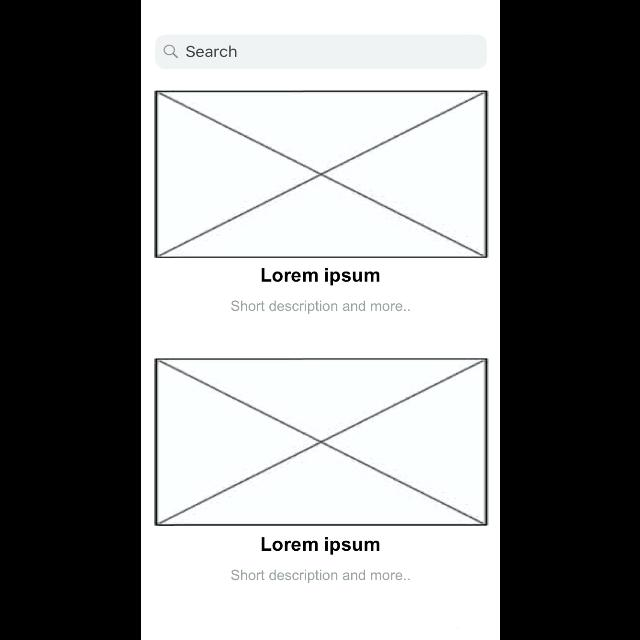icon: (162, 45, 178, 59)
image: (154, 358, 488, 526), (154, 91, 488, 259)
input: (155, 34, 487, 70)
text: (230, 300, 410, 314), (230, 570, 410, 582), (261, 268, 379, 286), (261, 537, 379, 555), (186, 46, 237, 58)
